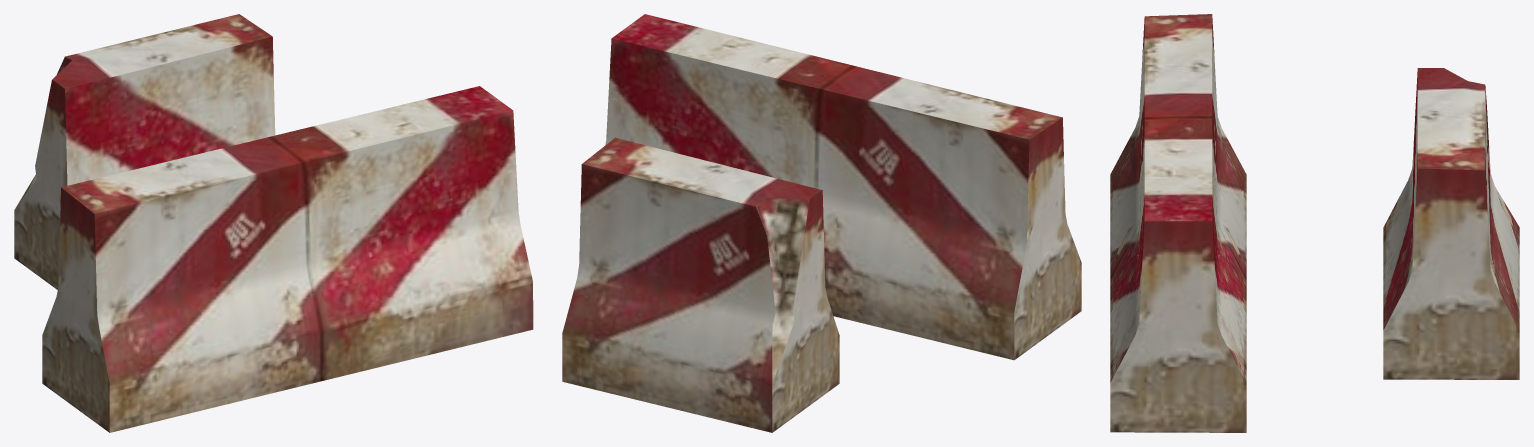
The model's file is barrier.glb.
The picture shows the model from 3 angles, left to right: view 1: azimuth 30°, elevation 25°; view 2: azimuth 150°, elevation 25°; view 3: azimuth 270°, elevation 25°; orthographic projection.
Parts seen in each view (by area): view 1: roadblock1_roadblock1_0, roadblock2_roadblock1_0; view 2: roadblock1_roadblock1_0, roadblock2_roadblock1_0; view 3: roadblock1_roadblock1_0, roadblock2_roadblock1_0.
Boxes of the visible parts, left/top/right/bottom form: roadblock1_roadblock1_0: left=42, top=86, right=533, bottom=432; roadblock2_roadblock1_0: left=14, top=14, right=275, bottom=289; roadblock1_roadblock1_0: left=605, top=14, right=1081, bottom=360; roadblock2_roadblock1_0: left=562, top=137, right=839, bottom=432; roadblock1_roadblock1_0: left=1110, top=14, right=1246, bottom=432; roadblock2_roadblock1_0: left=1383, top=68, right=1519, bottom=379.
Bounding box in the file's own units: 182 × 85.28 × 150.
2 materials, 2 textured.
